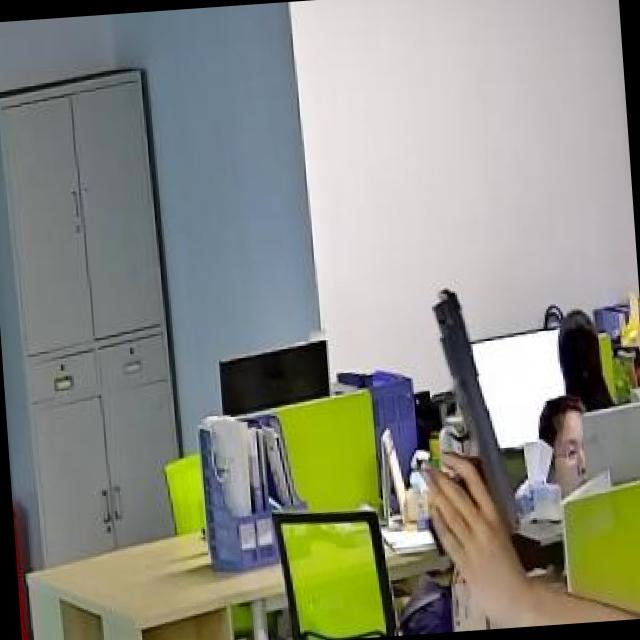Guns: (406, 252, 531, 553)
